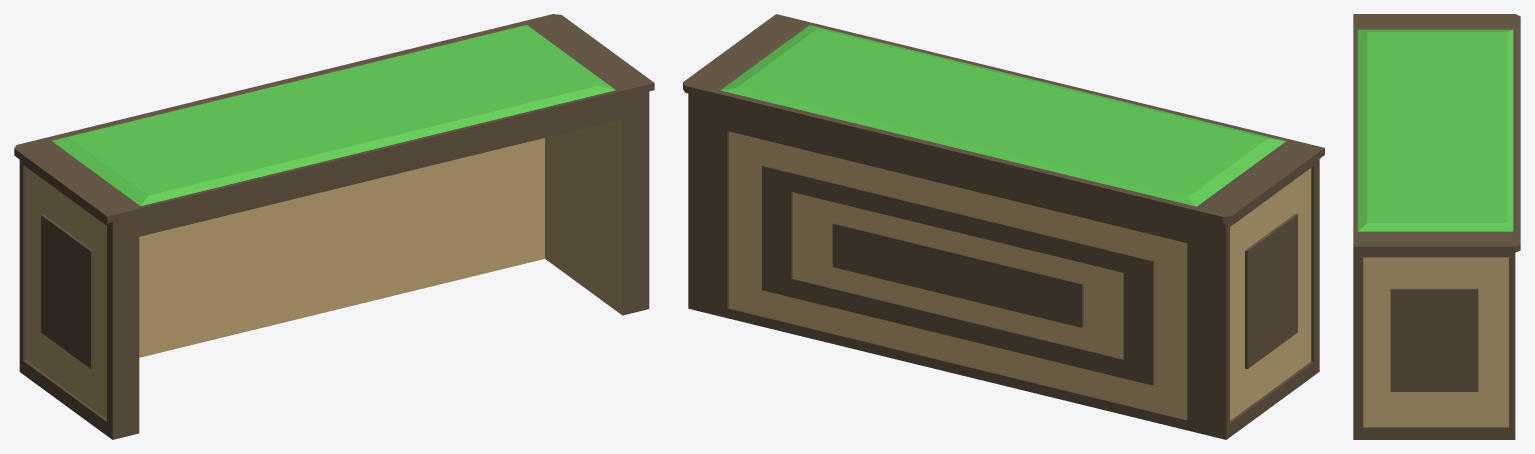
The model's file is Boss Table.fbx.
3 renders of one model, left to right at view 1: azimuth 30°, elevation 25°; view 2: azimuth 150°, elevation 25°; view 3: azimuth 270°, elevation 25°, orthographic. The views are drawn at different scales.
Parts seen in each view (by area): view 1: Boss Table; view 2: Boss Table; view 3: Boss Table.
Part boxes in pixels (x1,y1,x2,y2): Boss Table: (14, 14, 654, 439); Boss Table: (683, 14, 1324, 439); Boss Table: (1353, 14, 1520, 439).
Bounding box in the file's own units: 20.4 × 8.11 × 6.2.
